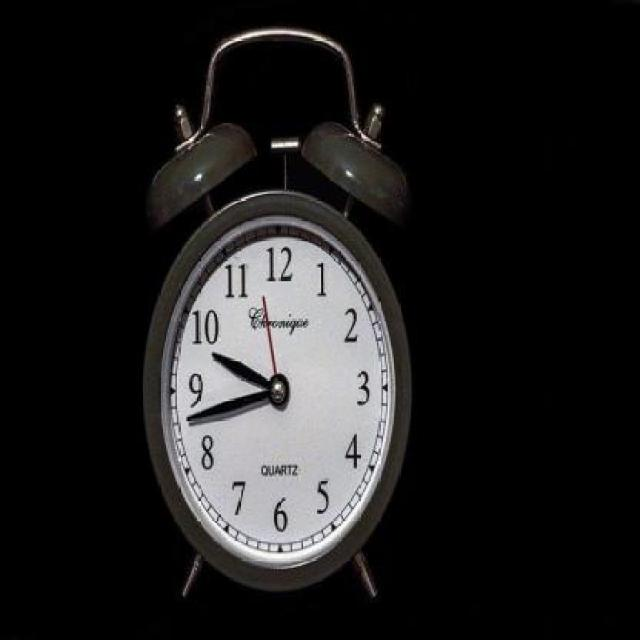clock: (166, 233, 397, 576)
